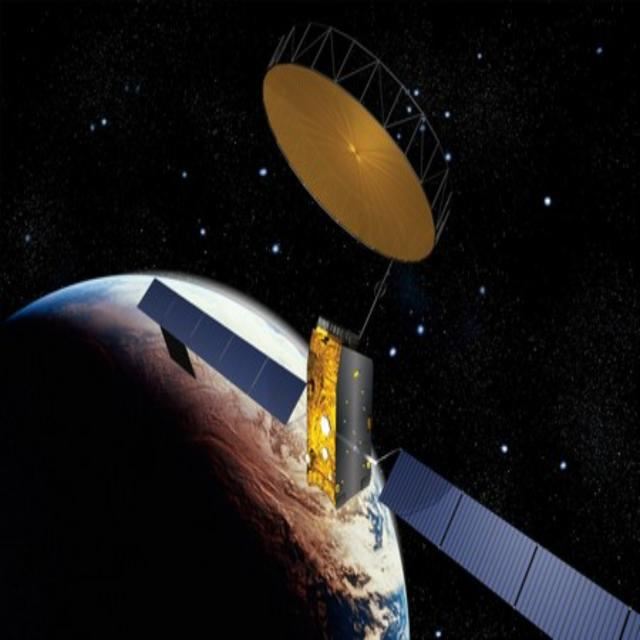satellite: (133, 17, 555, 577)
